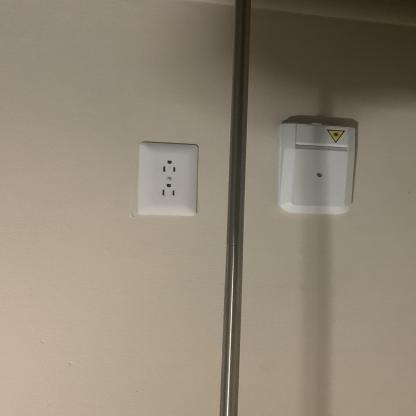OUTLET: (137, 143, 198, 216)
